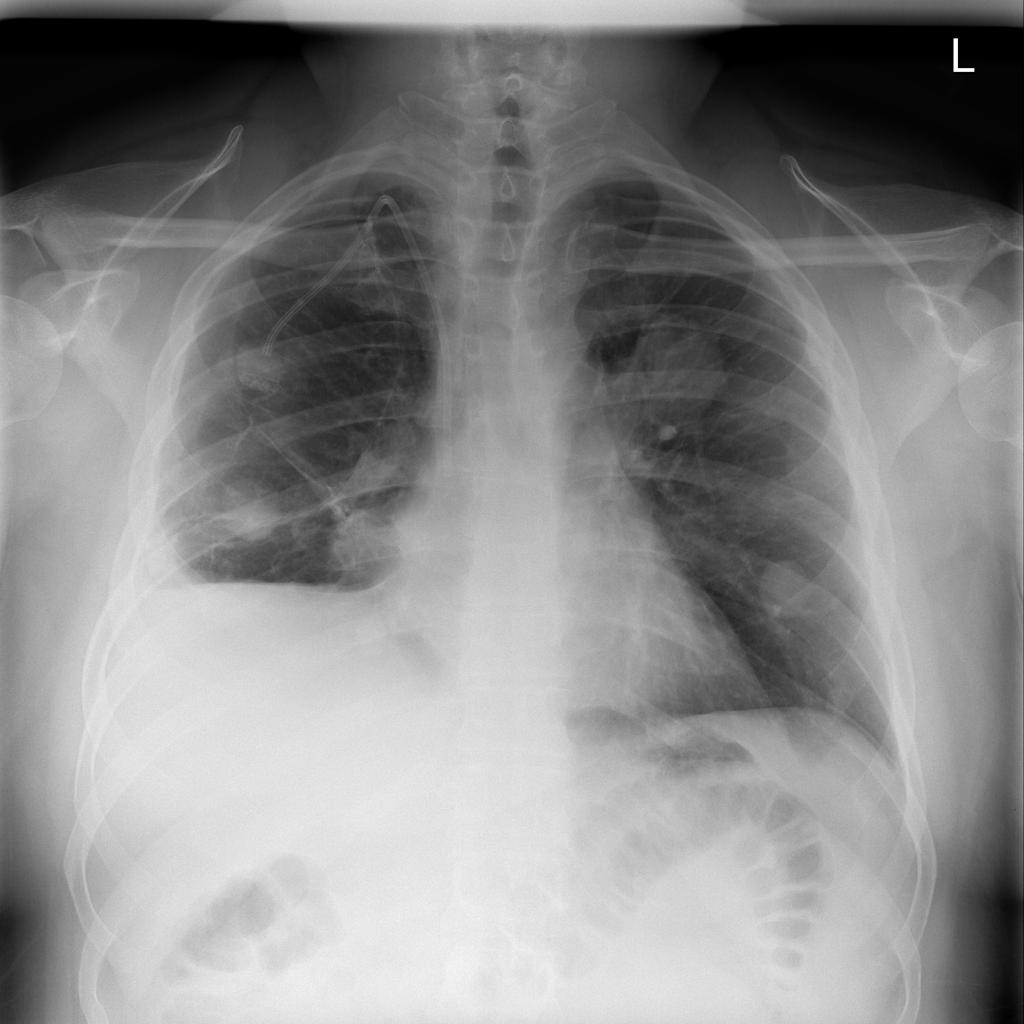nodule: (610, 301, 742, 432), (199, 458, 306, 562), (736, 534, 838, 643), (806, 657, 877, 731)
